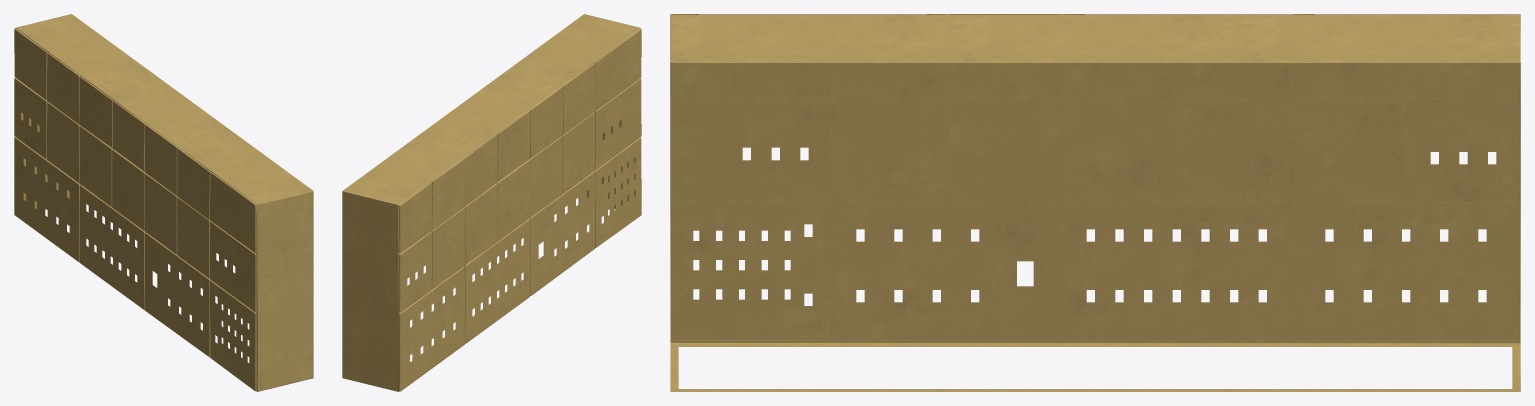
The model's file is Frame_Куб.fbx.
3 views of the same model, side by side, from view 1: azimuth 30°, elevation 25°; view 2: azimuth 150°, elevation 25°; view 3: azimuth 270°, elevation 25° (orthographic). The views are drawn at different scales.
Parts seen in each view (by area): view 1: Frame_Куб.001, Middle_Doors_Gen_Куб_054, Middle_Doors_Gen_Куб_001; view 2: Frame_Куб.001, Middle_Doors_Gen_Куб_054, Middle_Doors_Gen_Куб_001; view 3: Frame_Куб.001, Middle_Doors_Gen_Куб_001, Middle_Doors_Gen_Куб_054.
Boxes of the visible parts, <box> form: Frame_Куб.001: <box>14,14,313,391</box>; Middle_Doors_Gen_Куб_054: <box>79,125,145,230</box>; Middle_Doors_Gen_Куб_001: <box>144,173,210,278</box>; Frame_Куб.001: <box>342,14,641,391</box>; Middle_Doors_Gen_Куб_054: <box>464,159,530,264</box>; Middle_Doors_Gen_Куб_001: <box>529,112,595,216</box>; Frame_Куб.001: <box>670,14,1520,391</box>; Middle_Doors_Gen_Куб_001: <box>835,103,1059,202</box>; Middle_Doors_Gen_Куб_054: <box>1065,103,1288,202</box>.
Bounding box in the file's own units: 74.21 × 228 × 534.
